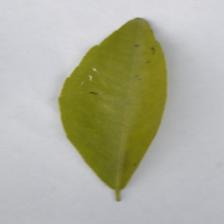healthy: (58, 17, 168, 187)
